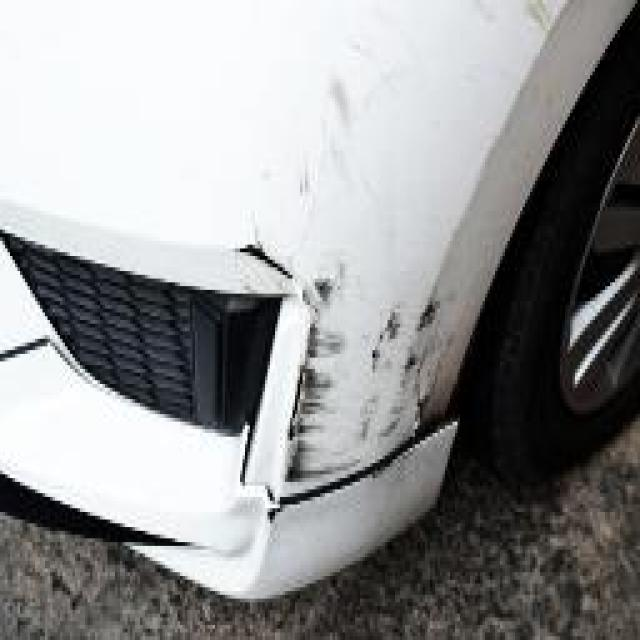Bumper: (220, 136, 455, 572)
